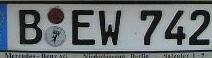2: (190, 9, 210, 46)
4: (165, 9, 185, 46)
7: (139, 9, 162, 47)
B: (19, 10, 42, 44)
E: (71, 10, 96, 45)
W: (99, 10, 121, 47)
